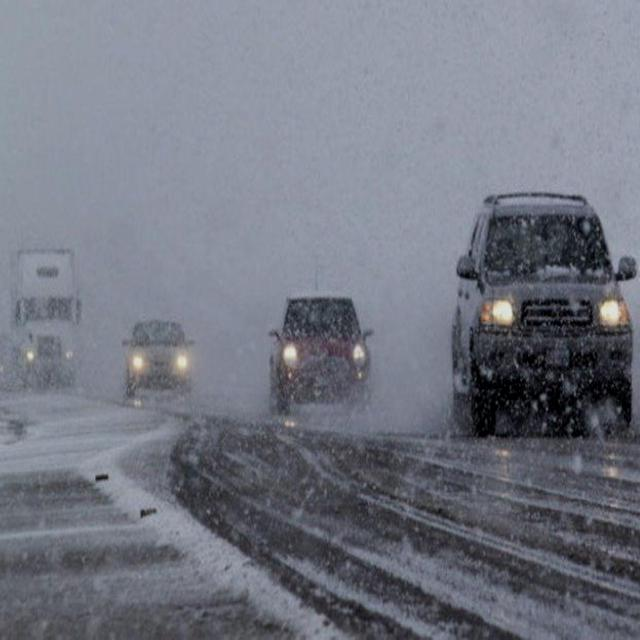Car: (443, 156, 638, 442), (256, 263, 388, 443), (127, 277, 205, 411)
Truck: (4, 228, 84, 390)
